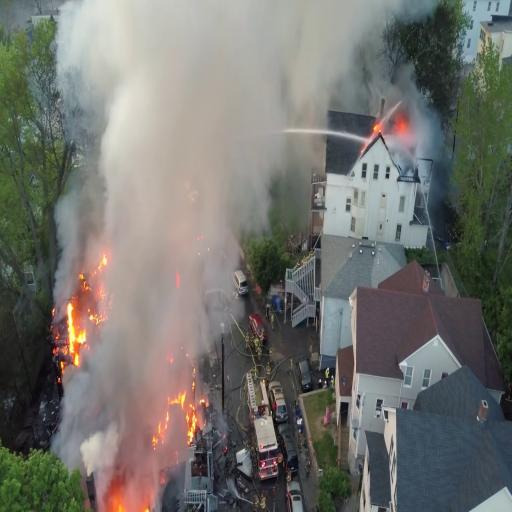fire: (160, 378, 204, 438), (54, 312, 88, 368)
smoke: (112, 11, 198, 319)
